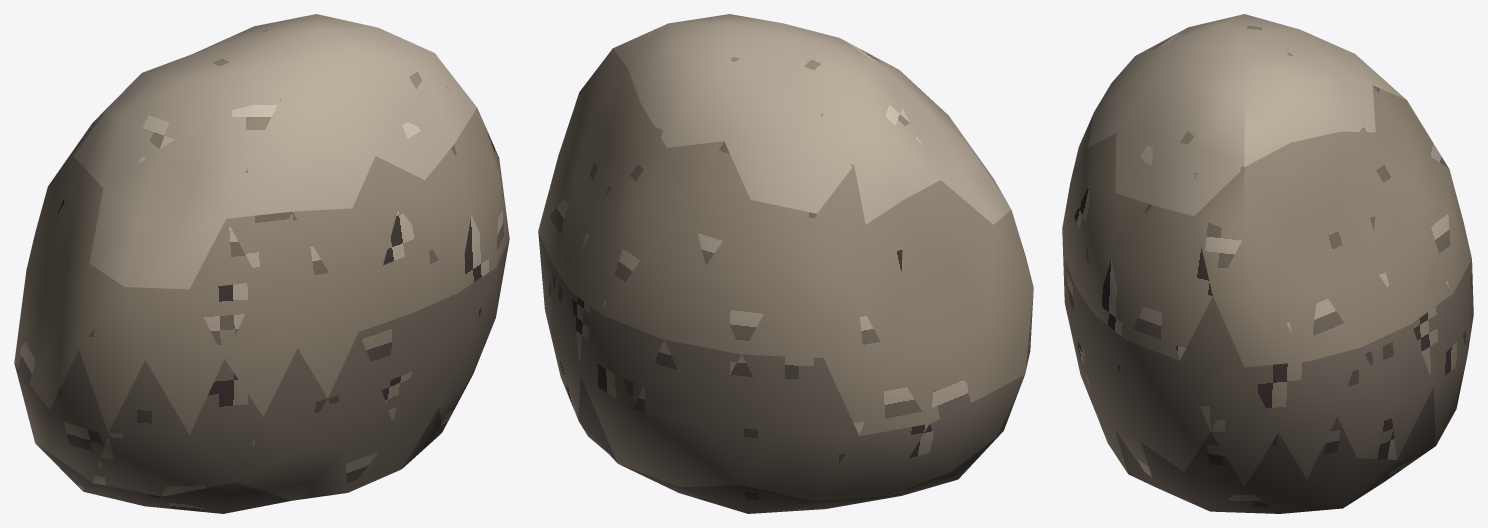
File: rock_medium_b.glb
3 renders of one model, left to right at view 1: azimuth 30°, elevation 25°; view 2: azimuth 150°, elevation 25°; view 3: azimuth 270°, elevation 25°, orthographic.
Visible parts, largest first — view 1: rock_medium_b; view 2: rock_medium_b; view 3: rock_medium_b.
Part boxes in pixels (x1=…): rock_medium_b: x1=14, y1=14, x2=509, y2=513; rock_medium_b: x1=538, y1=14, x2=1033, y2=513; rock_medium_b: x1=1062, y1=14, x2=1473, y2=513.
Size of the model in its own units: 1.12 by 0.95 by 0.8736.
1 material, 1 textured.
